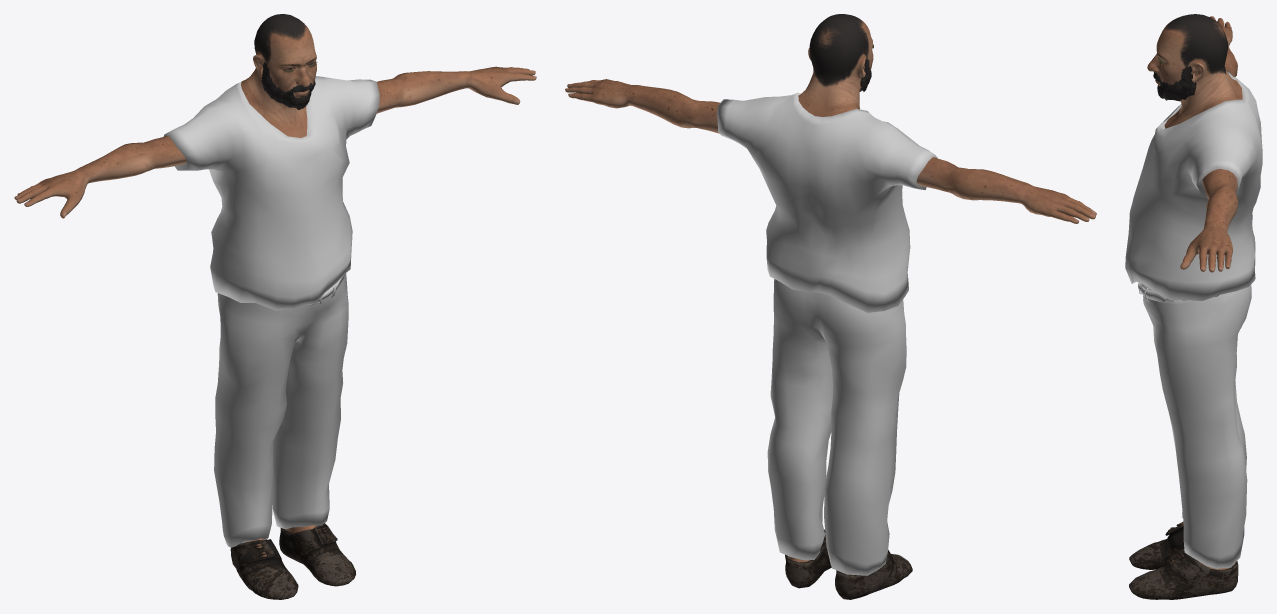
The model's file is homeless.obj.
The picture shows the model from 3 angles, left to right: view 1: azimuth 30°, elevation 25°; view 2: azimuth 150°, elevation 25°; view 3: azimuth 270°, elevation 25°; orthographic projection.
Visible parts, largest first — view 1: Tops, Bottoms, Body, Shoes, Beards; view 2: Bottoms, Tops, Body, Shoes; view 3: Bottoms, Tops, Body, Shoes, Beards.
Part boxes in pixels (left/top/right/bottom): Tops: left=163, top=76, right=379, bottom=310; Bottoms: left=214, top=273, right=348, bottom=547; Body: left=14, top=14, right=536, bottom=542; Shoes: left=230, top=523, right=355, bottom=599; Beards: left=261, top=62, right=315, bottom=109; Bottoms: left=767, top=279, right=906, bottom=575; Tops: left=717, top=92, right=937, bottom=312; Body: left=565, top=14, right=1096, bottom=573; Shoes: left=785, top=529, right=912, bottom=599; Bottoms: left=1138, top=283, right=1251, bottom=568; Tops: left=1125, top=70, right=1262, bottom=300; Body: left=1147, top=14, right=1242, bottom=570; Shoes: left=1129, top=522, right=1238, bottom=599; Beards: left=1157, top=65, right=1196, bottom=101.
Bounding box in the file's own units: 176 × 180 × 39.9.
